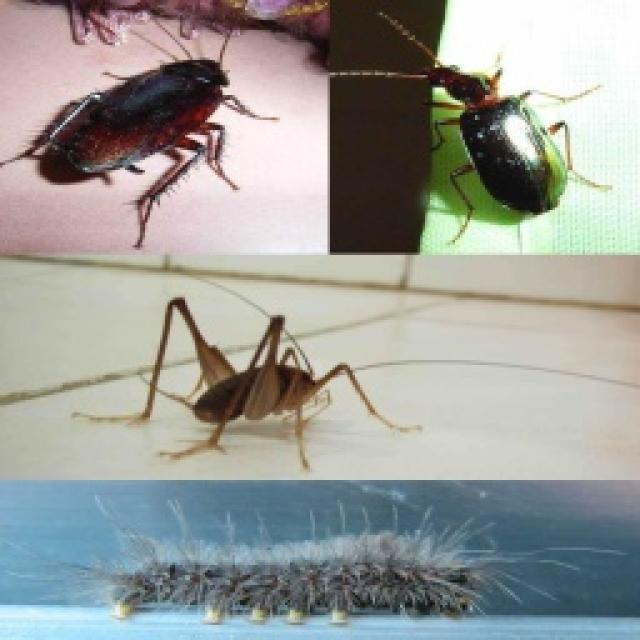cockroach: (24, 43, 279, 197)
